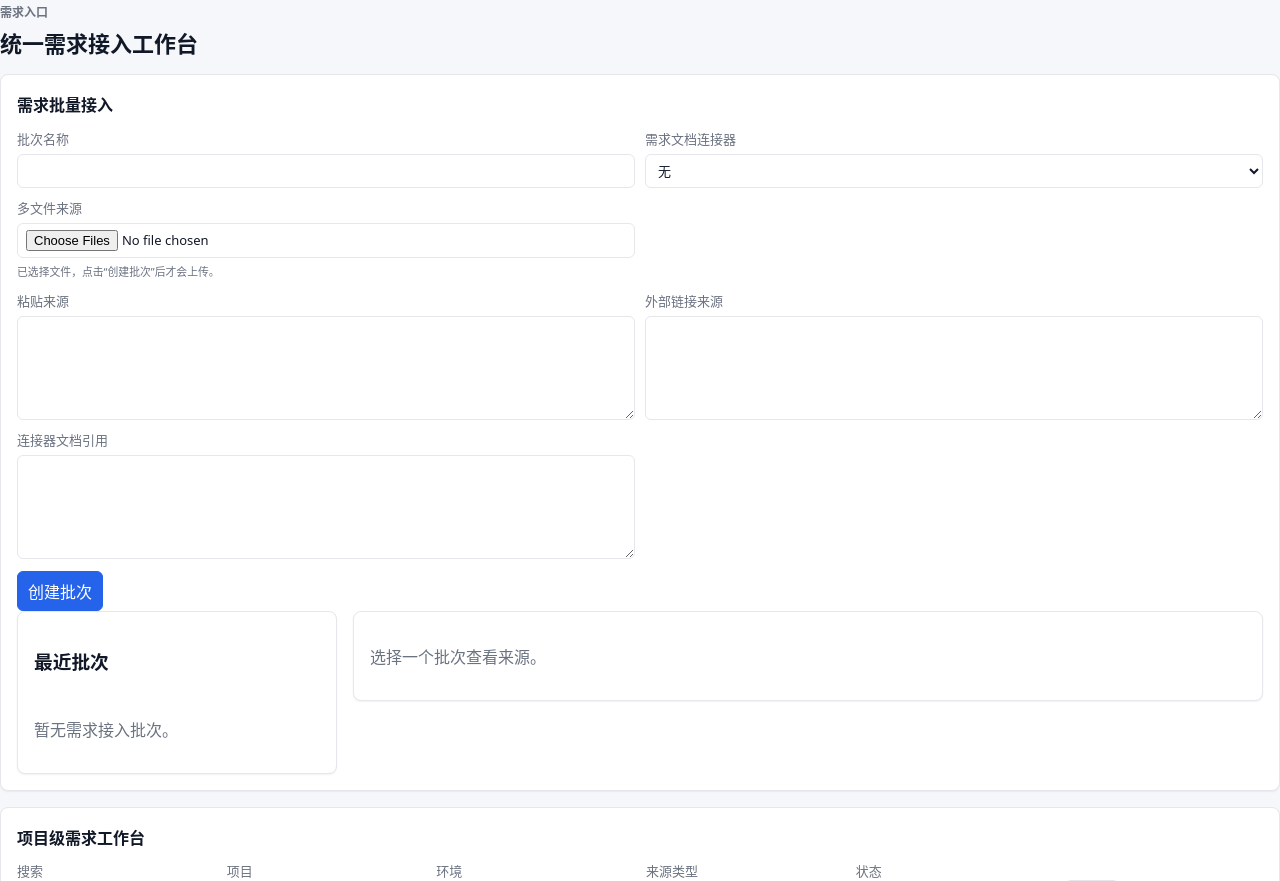
Test case: Community requirement intake workbench › reports mixed source types before creating an incomplete batch
The image size is (1280, 881).
Earlier steps of the test are not shown.
Type "另一条需求" into the text box labelled "粘贴来源" at (326, 368), box [17,316,635,420]
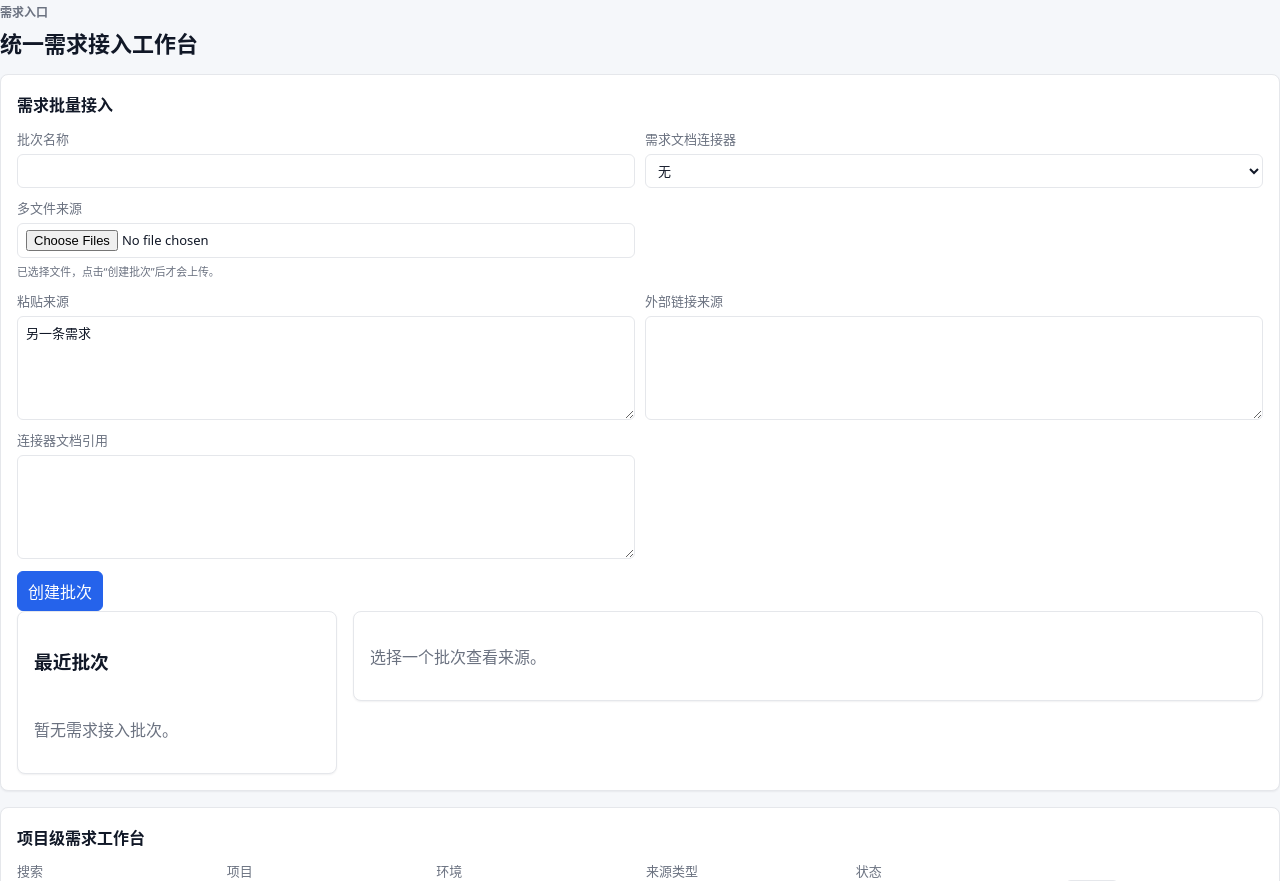
Click the button "创建批次" at (60, 591), box [17,571,103,611]
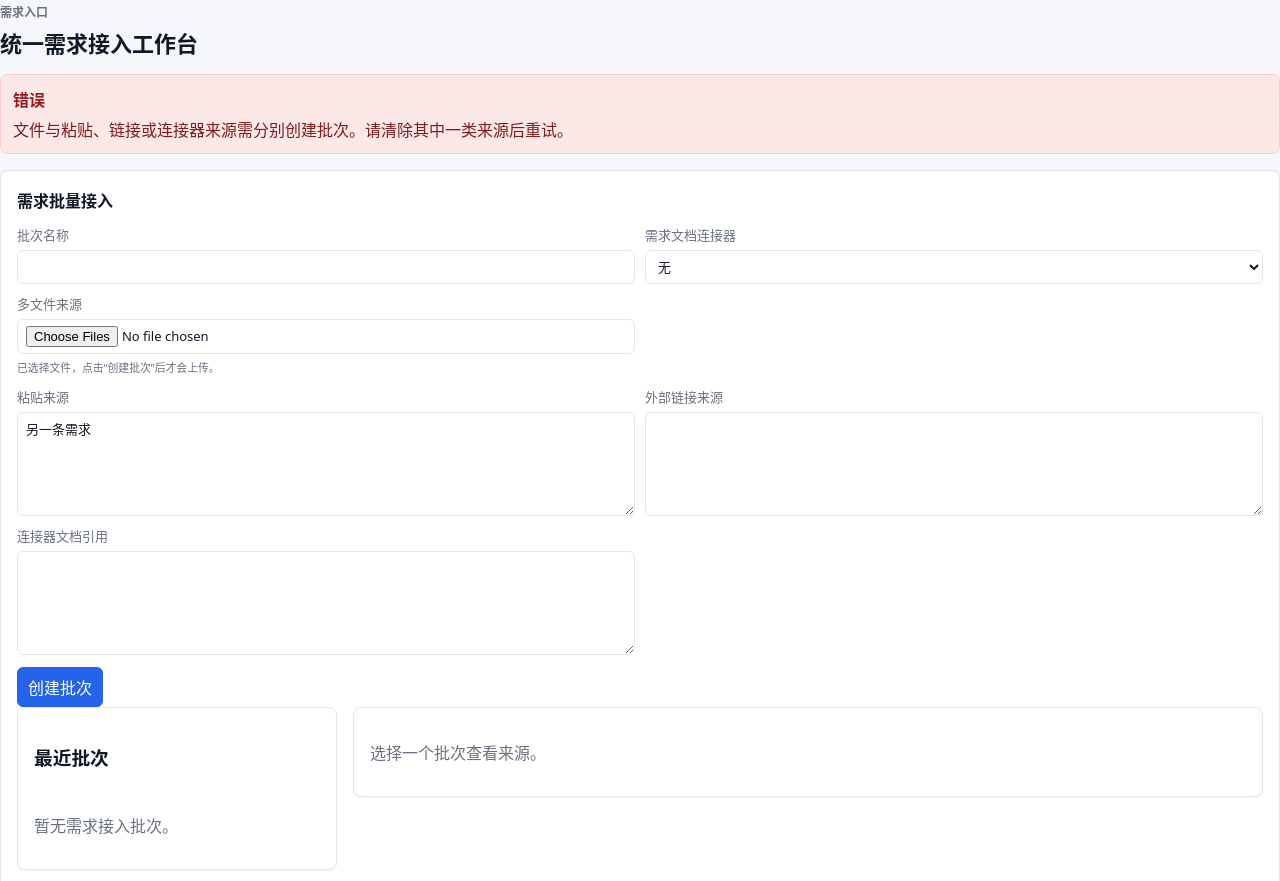
Expected: the text "文件与粘贴、链接或连接器来源需分别创建批次。请清除其中一类来源后重试。" is shown, [13,119,573,141]
